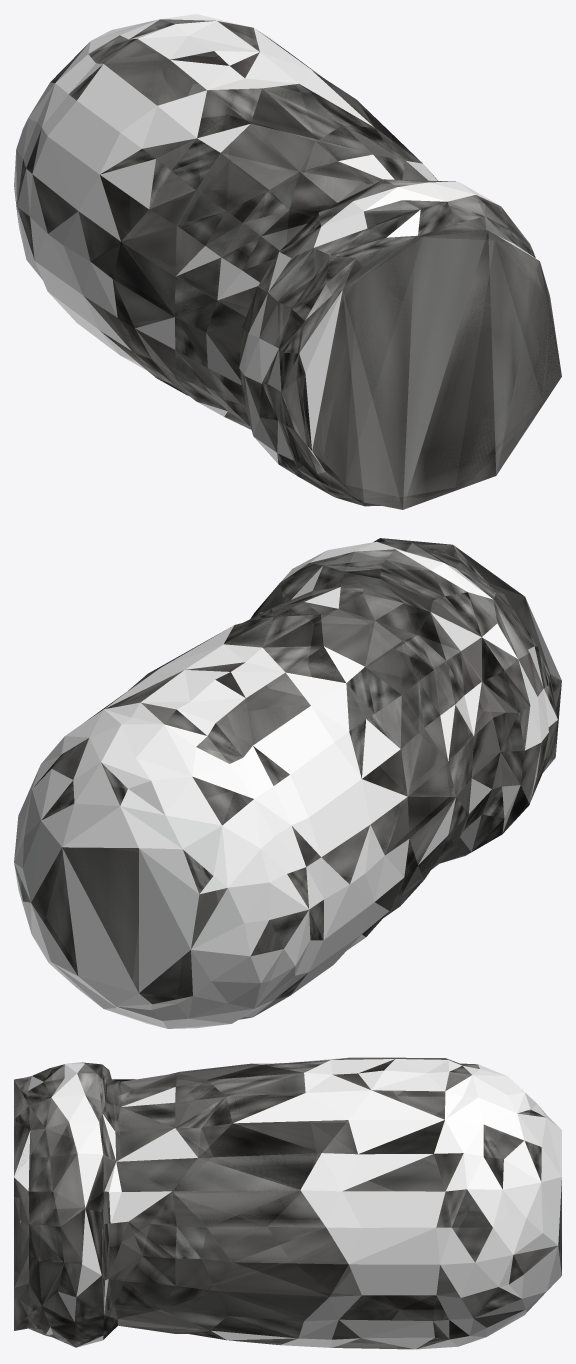
File: model_align.obj
3 renders of one model, top to bottom at view 1: azimuth 30°, elevation 25°; view 2: azimuth 150°, elevation 25°; view 3: azimuth 270°, elevation 25°, orthographic. The views are drawn at different scales.
Bounding box in the file's own units: 0.1235 × 0.1236 × 0.2311.
